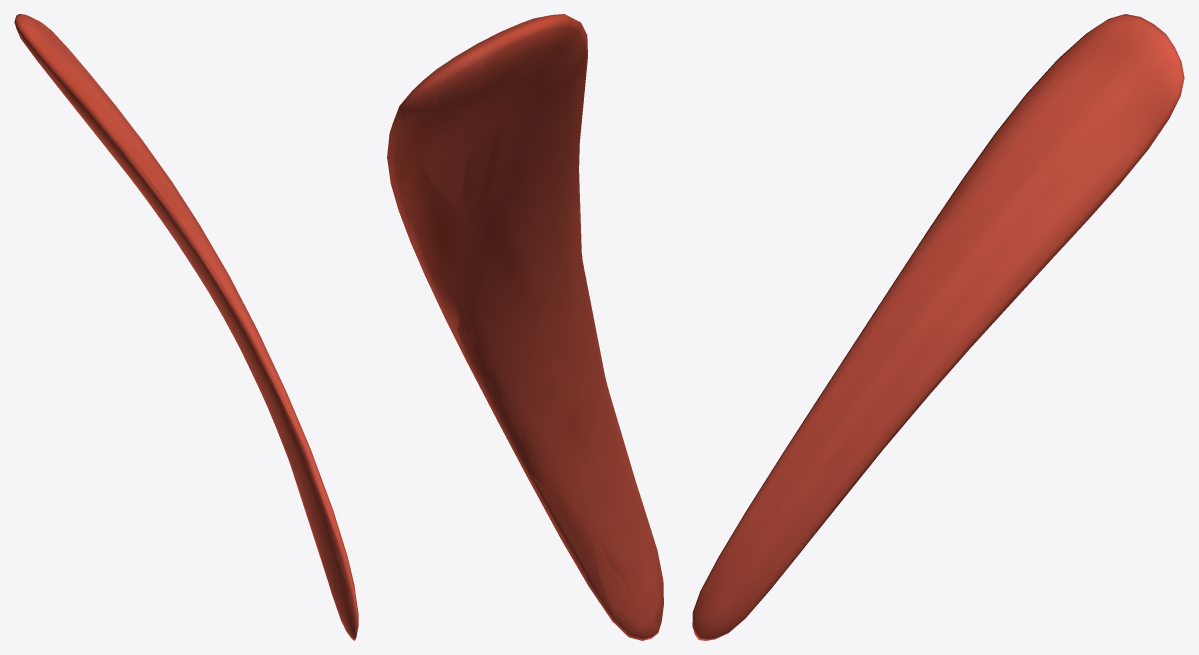
File: L Infraspinatus.fbx
The picture shows the model from 3 angles, left to right: view 1: azimuth 30°, elevation 25°; view 2: azimuth 150°, elevation 25°; view 3: azimuth 270°, elevation 25°; orthographic projection. The views are drawn at different scales.
Visible parts, largest first — view 1: L Infraspinatus, L Infraspinatus high, L Infraspinatus low; view 2: L Infraspinatus, L Infraspinatus high, L Infraspinatus low; view 3: L Infraspinatus, L Infraspinatus low, L Infraspinatus high.
Boxes of the visible parts, box(x1,y1,x2,y2) form: L Infraspinatus: box(14, 14, 358, 640); L Infraspinatus high: box(20, 17, 355, 632); L Infraspinatus low: box(15, 20, 358, 632); L Infraspinatus: box(387, 14, 663, 640); L Infraspinatus high: box(399, 23, 661, 630); L Infraspinatus low: box(387, 14, 657, 636); L Infraspinatus: box(692, 14, 1184, 640); L Infraspinatus low: box(692, 14, 1180, 637); L Infraspinatus high: box(702, 21, 1180, 638).
Size of the model in its own units: 4.62 by 14.92 by 12.05.
